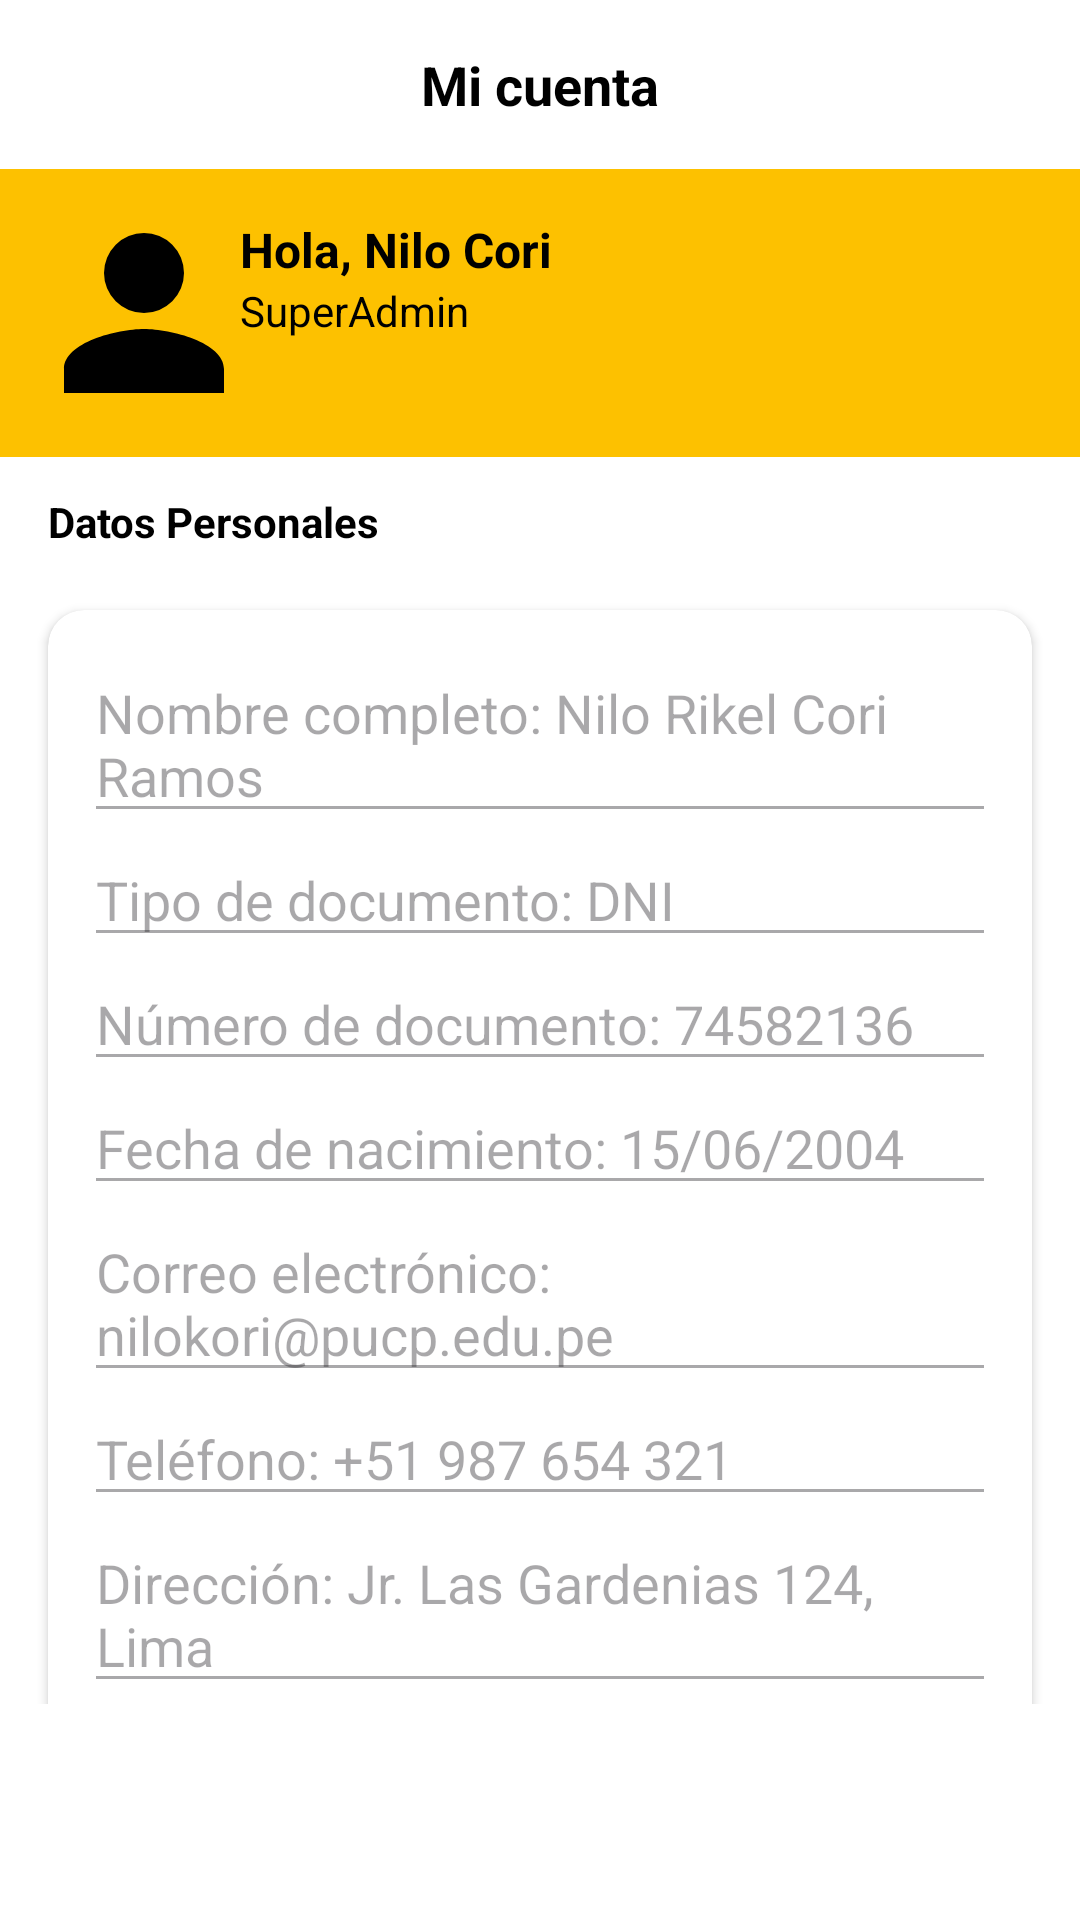

Where to tap for icons on this 1080*1920 app screen, as (x=x, y=y):
user: (x=144, y=313)
